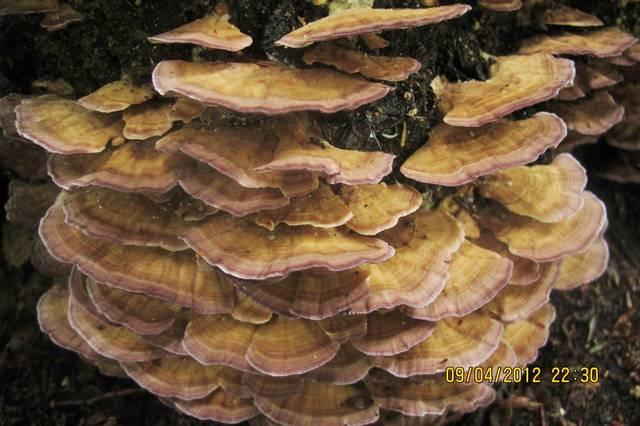Non-edible Mushroom: (8, 2, 622, 424)
